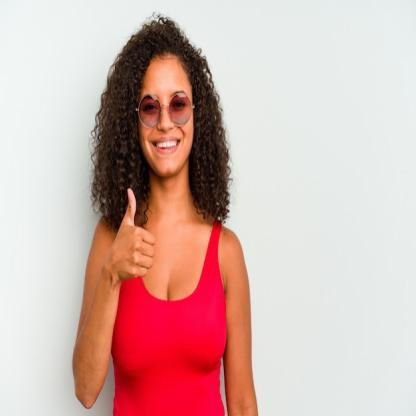thumb_up: (106, 186, 154, 283)
